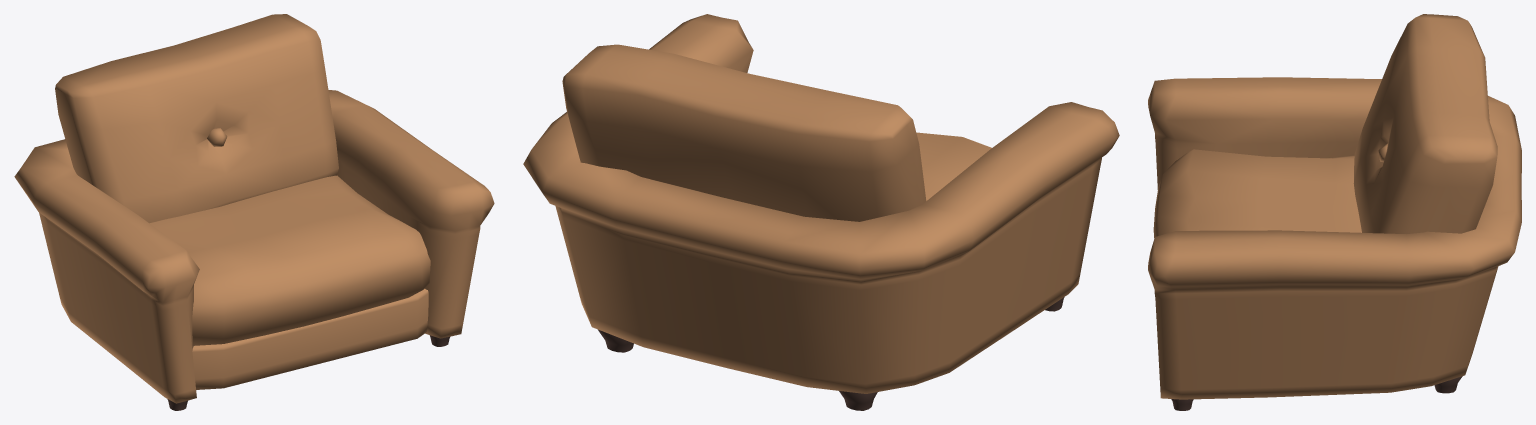
Rendered from couch2.gltf.
3 views of the same model, side by side, from view 1: azimuth 30°, elevation 25°; view 2: azimuth 150°, elevation 25°; view 3: azimuth 270°, elevation 25° (orthographic). The views are drawn at different scales.
Visible parts, largest first — view 1: Cube.008, Cube.009, Cube.007, Cube.011; view 2: Cube.009, Cube.008, Cube.007, Cube.010; view 3: Cube.009, Cube.008, Cube.007, Cube.010.
Boxes of the visible parts, x1,y1,x2,y2 form: Cube.008: (55, 14, 338, 223); Cube.009: (14, 90, 494, 403); Cube.007: (149, 175, 430, 345); Cube.011: (192, 288, 428, 389); Cube.009: (523, 14, 1119, 393); Cube.008: (562, 44, 926, 221); Cube.007: (916, 132, 991, 200); Cube.010: (598, 297, 1064, 410); Cube.009: (1148, 77, 1521, 399); Cube.008: (1353, 14, 1497, 233); Cube.007: (1153, 149, 1361, 237); Cube.010: (1171, 376, 1462, 410).
Bounding box in the file's own units: 1.23 × 0.7975 × 1.04.
